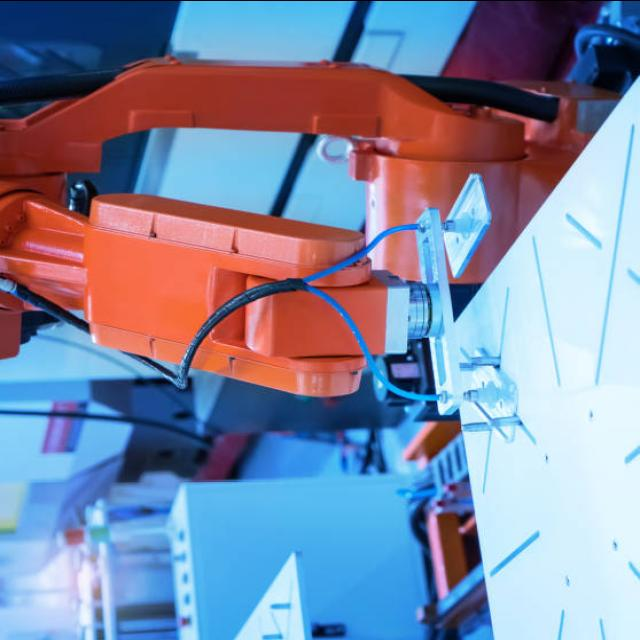Robotic-arm: (0, 47, 569, 400)
